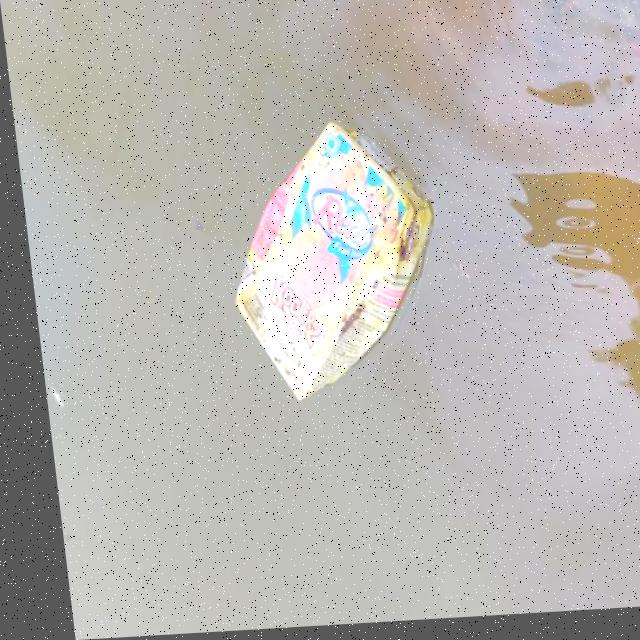paper: (204, 111, 458, 409)
